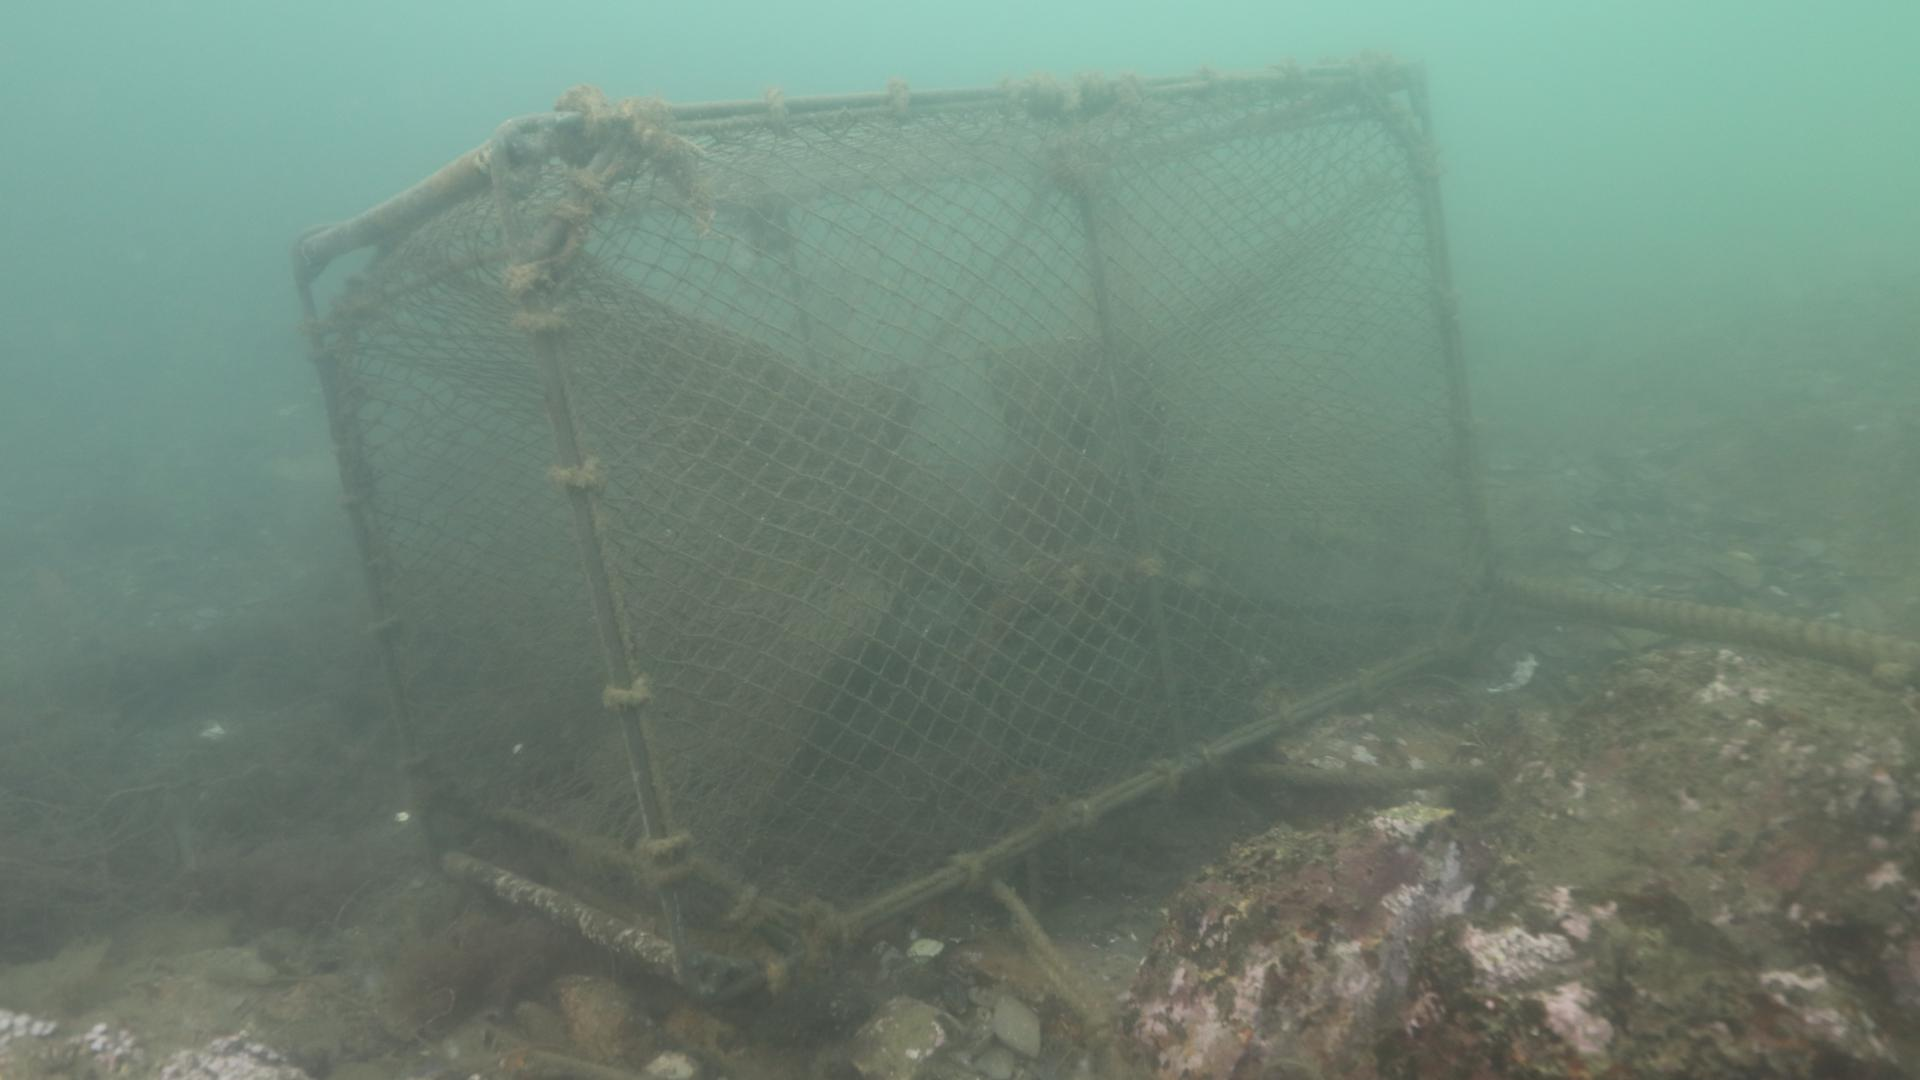bundle of ropes: (961, 848, 1088, 1052)
rectangular fish trap: (287, 54, 1501, 1001)
rope: (1509, 553, 1920, 688)
